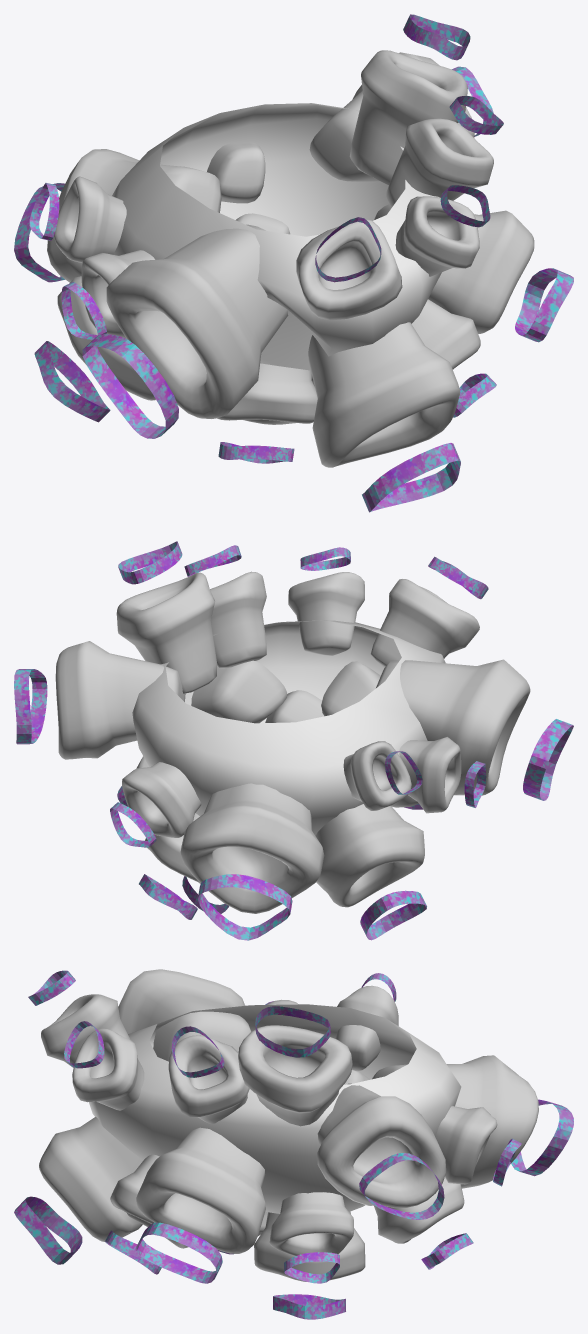
Rendered from P_Blob_No3.fbx.
3 renders of one model, top to bottom at view 1: azimuth 30°, elevation 25°; view 2: azimuth 150°, elevation 25°; view 3: azimuth 270°, elevation 25°, orthographic. The views are drawn at different scales.
Visible parts, largest first — view 1: Plant Blob 3.001; view 2: Plant Blob 3.001; view 3: Plant Blob 3.001.
Part boxes in pixels (x1=…): Plant Blob 3.001: x1=14, y1=14, x2=573, y2=512; Plant Blob 3.001: x1=14, y1=541, x2=573, y2=940; Plant Blob 3.001: x1=14, y1=969, x2=573, y2=1319.
Size of the model in its own units: 61.81 by 45.01 by 66.74.
